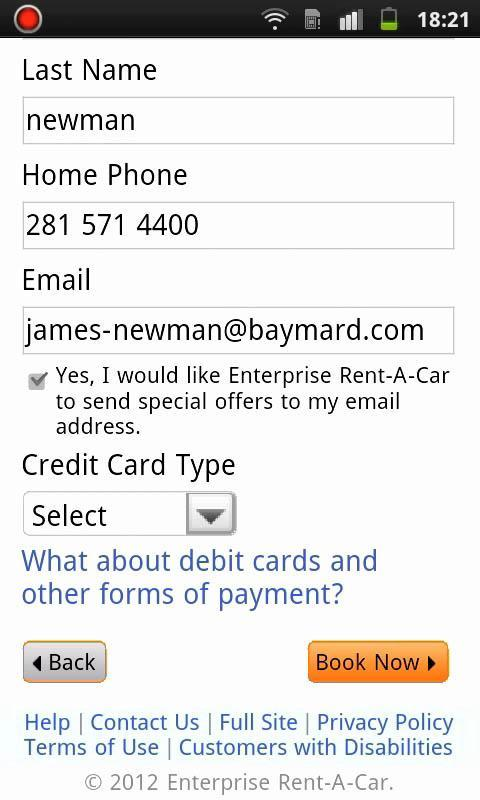button: (307, 639, 450, 684), (21, 636, 110, 686)
checkbox: (26, 371, 49, 395)
dropdown: (21, 495, 236, 536)
input: (22, 97, 453, 146), (25, 306, 458, 354), (24, 204, 458, 250)
label: (17, 447, 243, 486), (12, 49, 176, 88), (24, 159, 190, 192), (17, 264, 96, 299)
